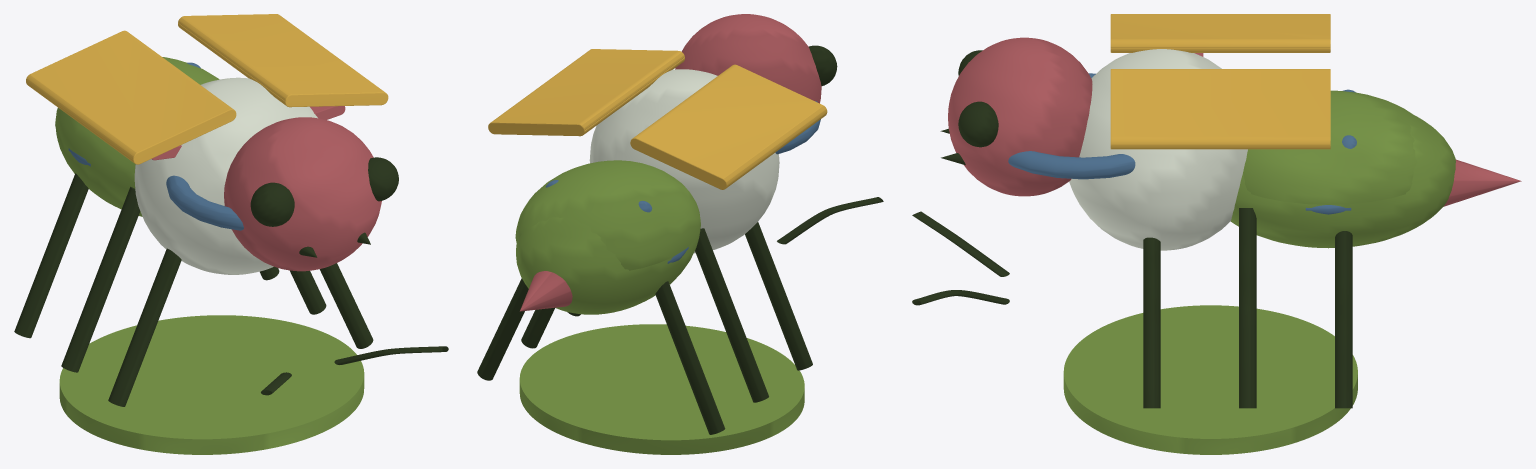
The model's file is 0024_昆虫图鉴_水虿.glb.
3 views of the same model, side by side, from view 1: azimuth 30°, elevation 25°; view 2: azimuth 150°, elevation 25°; view 3: azimuth 270°, elevation 25° (orthographic). The views are drawn at different scales.
Parts seen in each view (by area): view 1: card_0024; view 2: card_0024; view 3: card_0024.
Boxes of the visible parts, x1=… form: card_0024: x1=14, y1=14, x2=448, y2=454; card_0024: x1=477, y1=14, x2=883, y2=454; card_0024: x1=912, y1=14, x2=1521, y2=454.
Bounding box in the file's own units: 0.8365 × 1 × 1.61.
